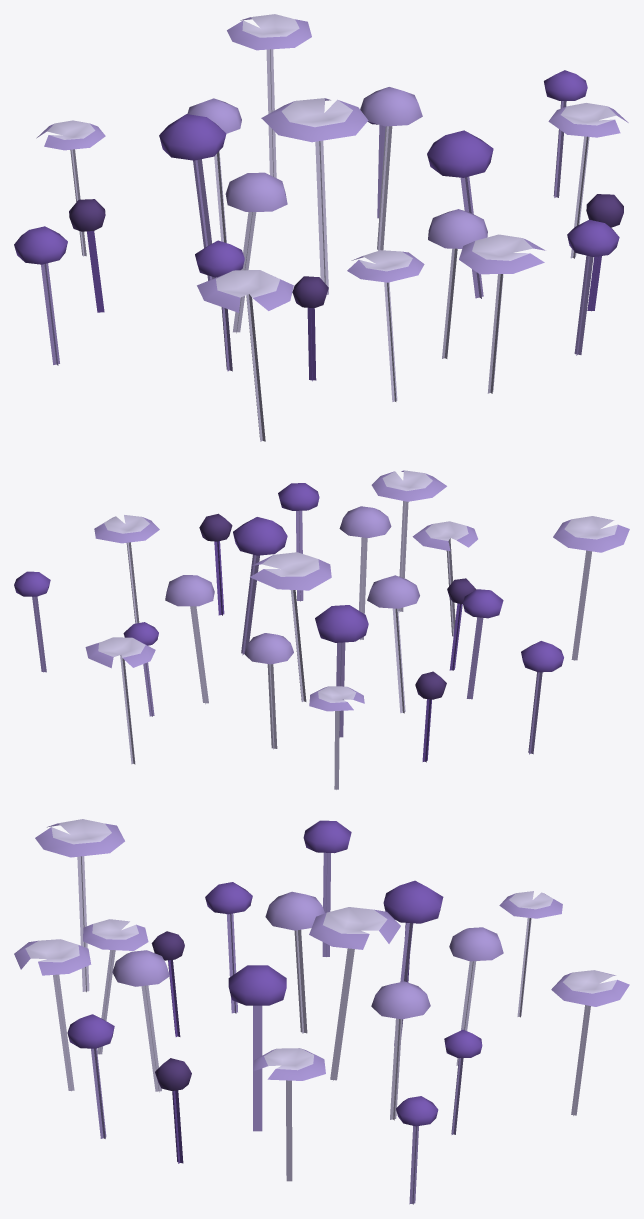
Rendered from Purple_Mushrooms_Cluster_1.glb.
3 views of the same model, one above another, from view 1: azimuth 30°, elevation 25°; view 2: azimuth 150°, elevation 25°; view 3: azimuth 270°, elevation 25° (orthographic). The views are drawn at different scales.
Parts seen in each view (by area): view 1: Purple_Mushrooms_Cluster_1; view 2: Purple_Mushrooms_Cluster_1; view 3: Purple_Mushrooms_Cluster_1.
Part boxes in pixels (x1=…): Purple_Mushrooms_Cluster_1: x1=14, y1=14, x2=628, y2=441; Purple_Mushrooms_Cluster_1: x1=14, y1=470, x2=629, y2=789; Purple_Mushrooms_Cluster_1: x1=14, y1=819, x2=629, y2=1204.
Bounding box in the file's own units: 0.7217 × 0.195 × 0.6758.
1 material, 1 textured.
